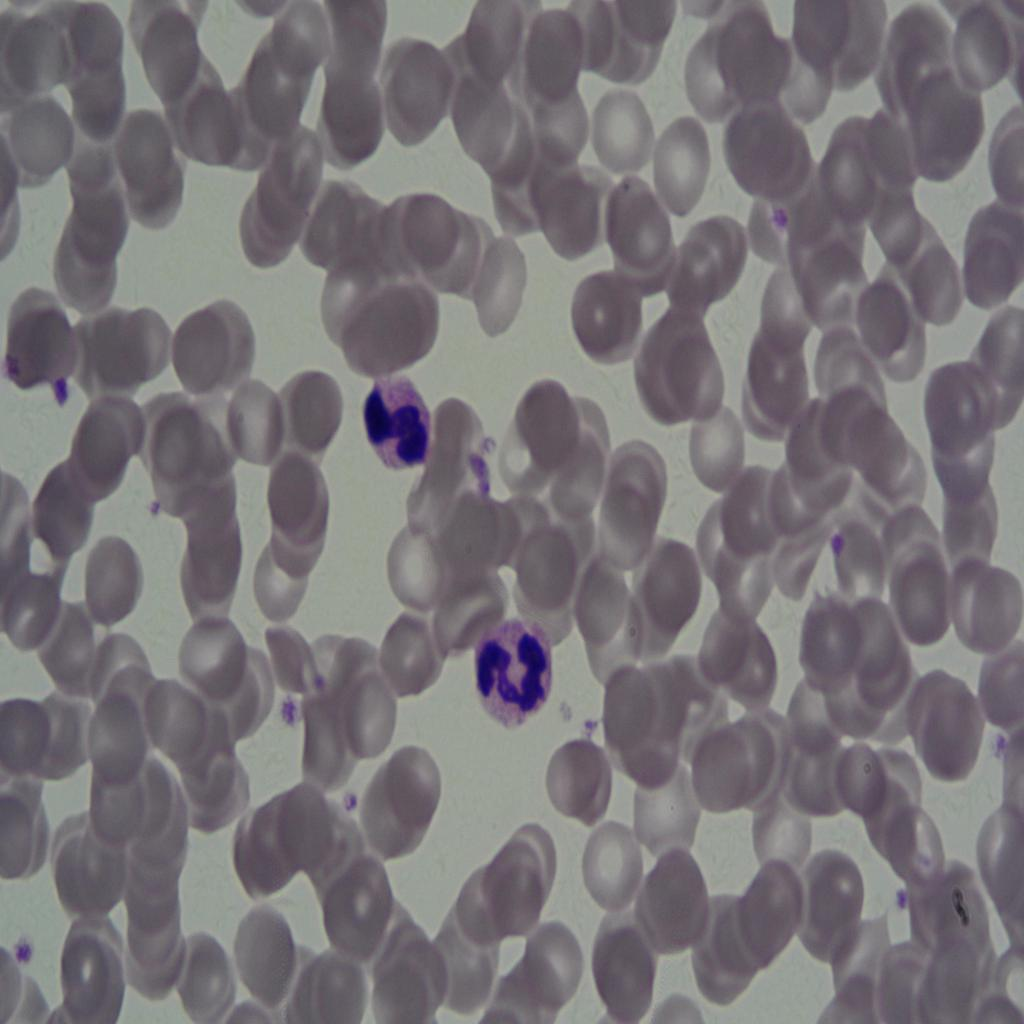Neutrofil: (465, 610, 560, 724), (353, 365, 439, 483)
Platelet: (336, 772, 368, 831), (48, 366, 81, 418), (278, 679, 302, 741), (13, 930, 43, 968), (772, 199, 792, 246), (827, 526, 851, 553)
